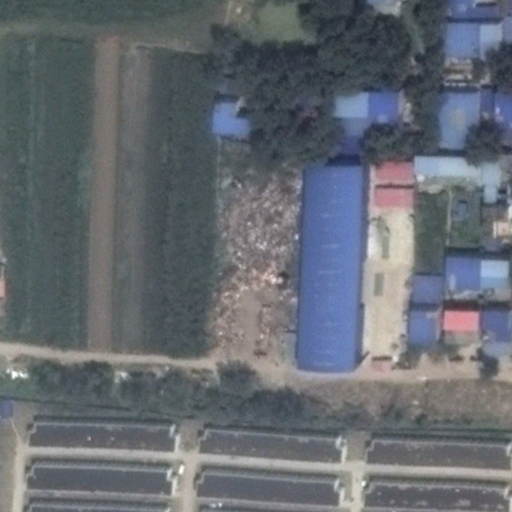msw: (216, 168, 298, 357)
